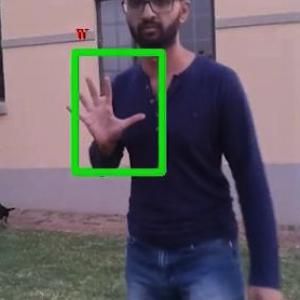follow_hand: (62, 70, 148, 154)
